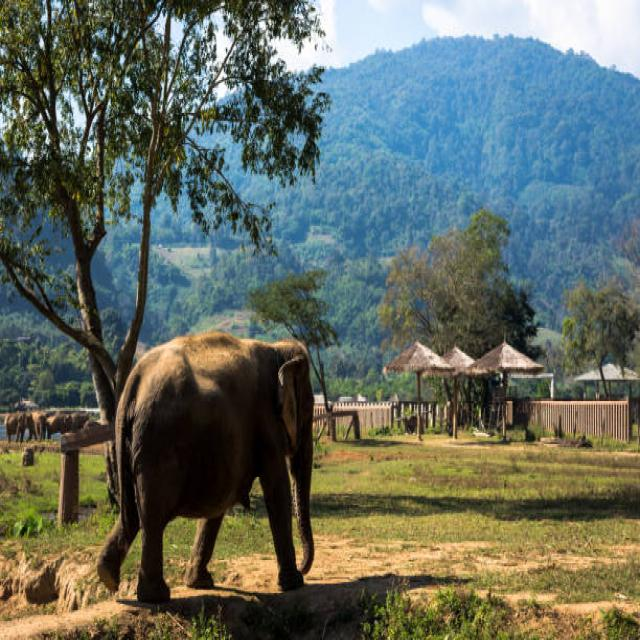Elephant: (97, 332, 330, 608)
